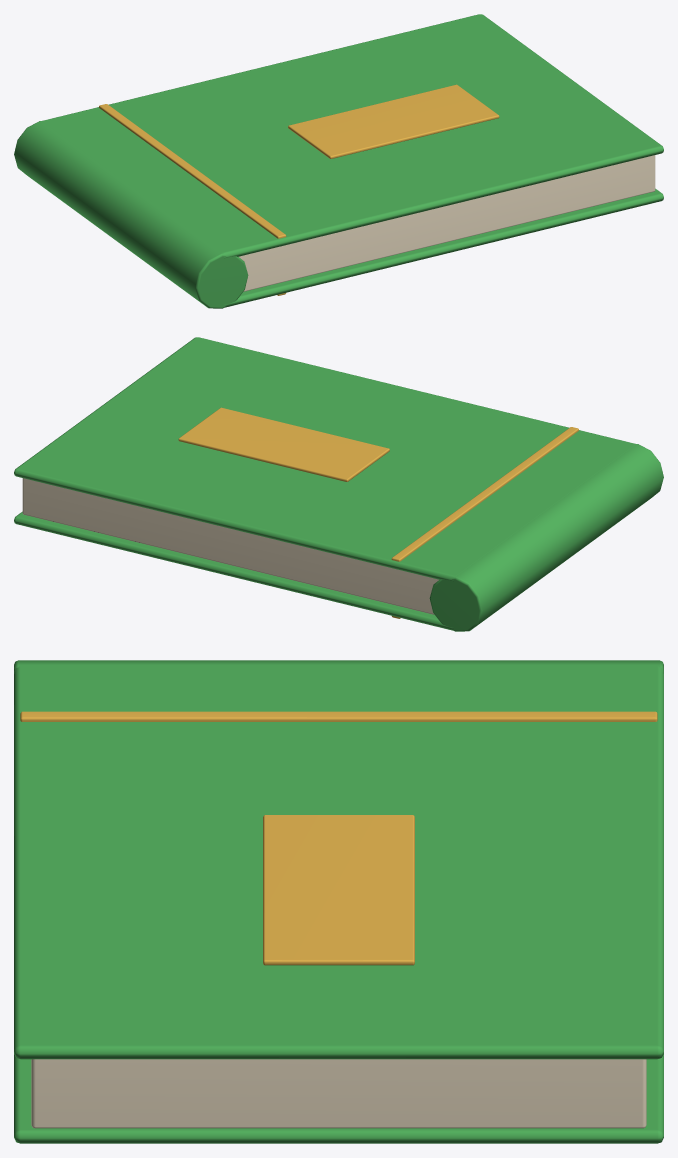
The model's file is toy_book_green.glb.
The picture shows the model from 3 angles, top to bottom: view 1: azimuth 30°, elevation 25°; view 2: azimuth 150°, elevation 25°; view 3: azimuth 270°, elevation 25°; orthographic projection. The views are drawn at different scales.
Parts seen in each view (by area): view 1: toy_book_green; view 2: toy_book_green; view 3: toy_book_green.
Boxes of the visible parts, <box> form: toy_book_green: <box>14,14,663,308</box>; toy_book_green: <box>14,337,663,631</box>; toy_book_green: <box>14,660,663,1143</box>.
Size of the model in its own units: 4.43 by 0.545 by 3.
